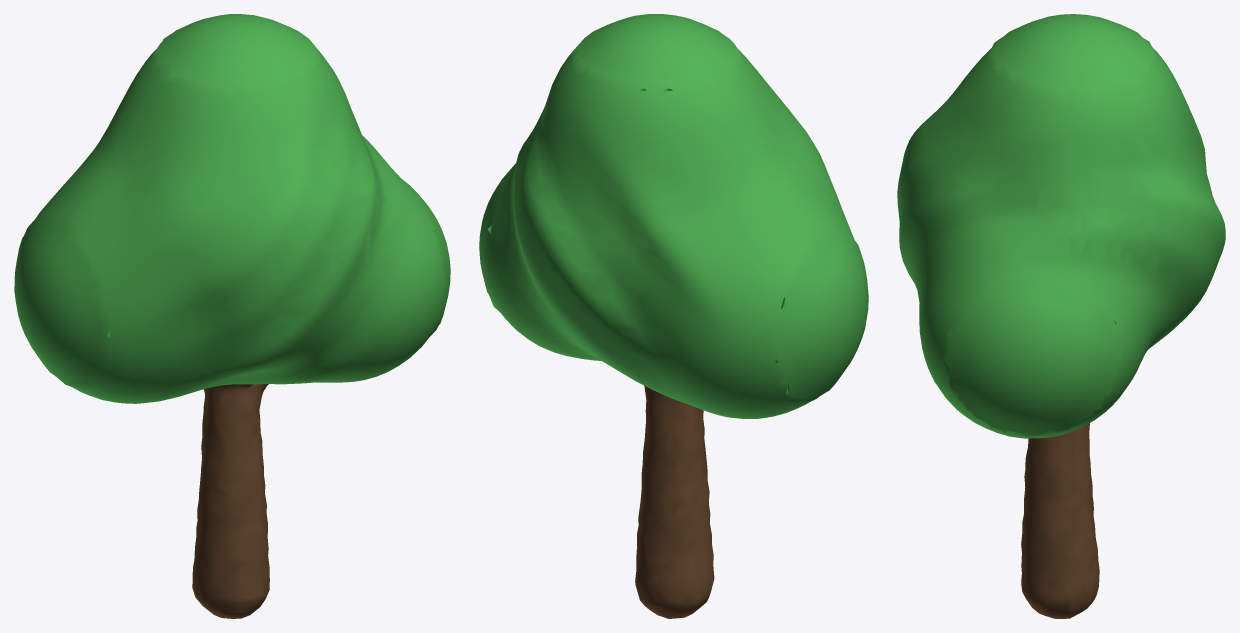
Rendered from tree.glb.
3 renders of one model, left to right at view 1: azimuth 30°, elevation 25°; view 2: azimuth 150°, elevation 25°; view 3: azimuth 270°, elevation 25°, orthographic. The views are drawn at different scales.
Parts seen in each view (by area): view 1: root; view 2: root; view 3: root.
Boxes of the visible parts, bbox=[...] form: root: bbox=[14, 14, 450, 618]; root: bbox=[479, 14, 868, 618]; root: bbox=[897, 14, 1225, 618].
Size of the model in its own units: 1.67 by 2.46 by 1.23.
